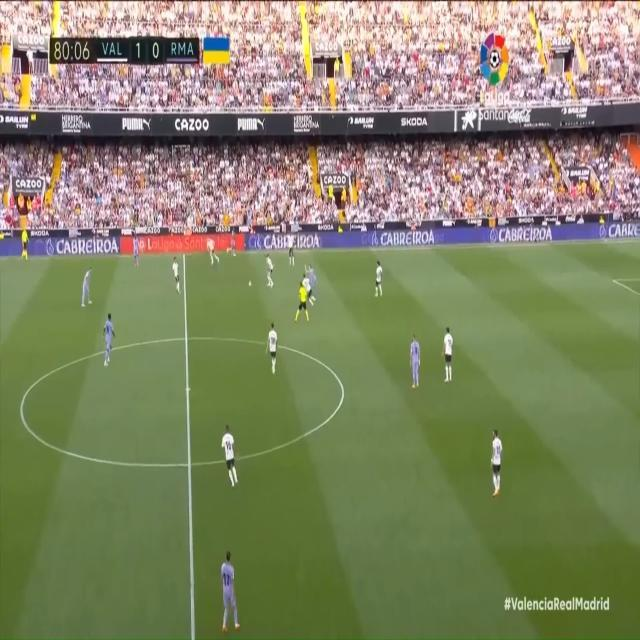ball: (245, 279, 256, 293)
player: (219, 544, 240, 631), (219, 418, 241, 489), (101, 309, 119, 376), (489, 426, 503, 496), (443, 320, 455, 383), (80, 266, 96, 310), (267, 318, 279, 374), (410, 334, 421, 391), (301, 270, 316, 310), (205, 232, 222, 266), (262, 249, 275, 286), (131, 229, 143, 267), (285, 227, 297, 264), (170, 258, 183, 292), (374, 254, 384, 297), (304, 264, 317, 292), (228, 229, 238, 258)
referee: (294, 281, 312, 329), (19, 228, 33, 267)
